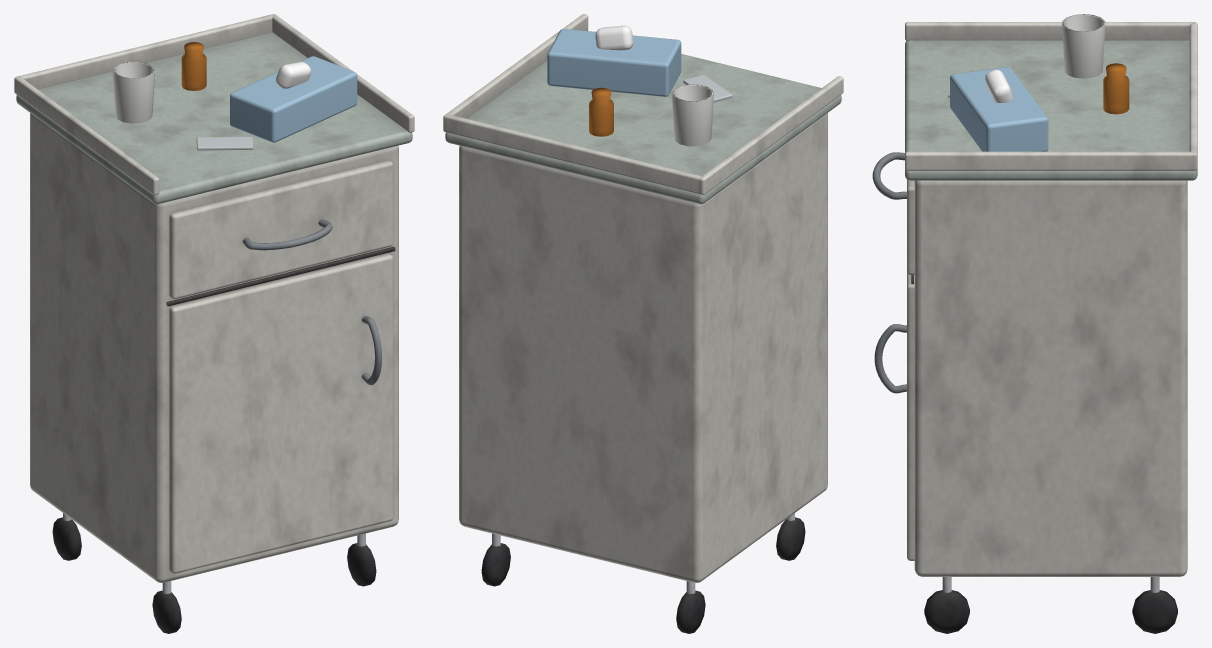
The model's file is szp_szafka.glb.
3 renders of one model, left to right at view 1: azimuth 30°, elevation 25°; view 2: azimuth 150°, elevation 25°; view 3: azimuth 270°, elevation 25°, orthographic. The views are drawn at different scales.
Visible parts, largest first — view 1: Szafka, Drobiazgi; view 2: Szafka, Drobiazgi; view 3: Szafka, Drobiazgi.
Boxes of the visible parts, x1,y1,x2,y2 form: Szafka: (14, 14, 414, 633); Drobiazgi: (113, 42, 357, 150); Szafka: (443, 14, 843, 633); Drobiazgi: (547, 25, 732, 146); Szafka: (872, 22, 1197, 633); Drobiazgi: (948, 14, 1129, 151).
Bounding box in the file's own units: 0.484 × 0.9084 × 0.4998.
Materials: 6 (1 with a texture image).
